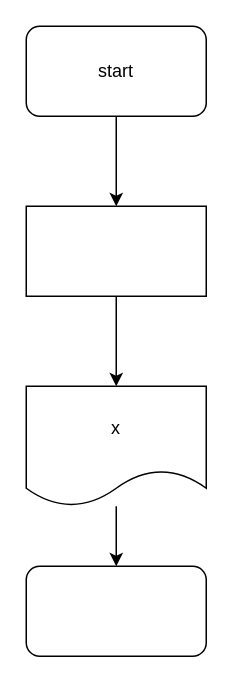
Some shapes in this 233 by 683 pixel diagram are drawn without their labels. Each missing label, with the box of its shape:
stop: (25, 565, 206, 656)
x (int) = 55: (25, 205, 206, 296)
